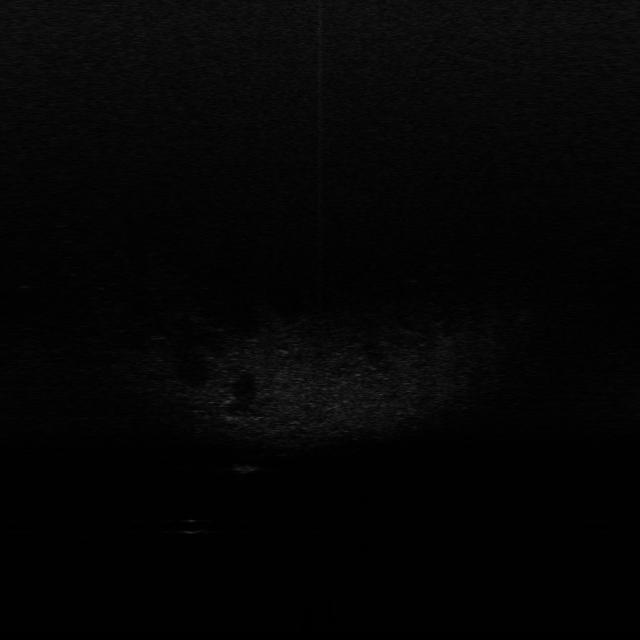ball: (178, 514, 210, 537)
cube: (233, 457, 261, 477)
